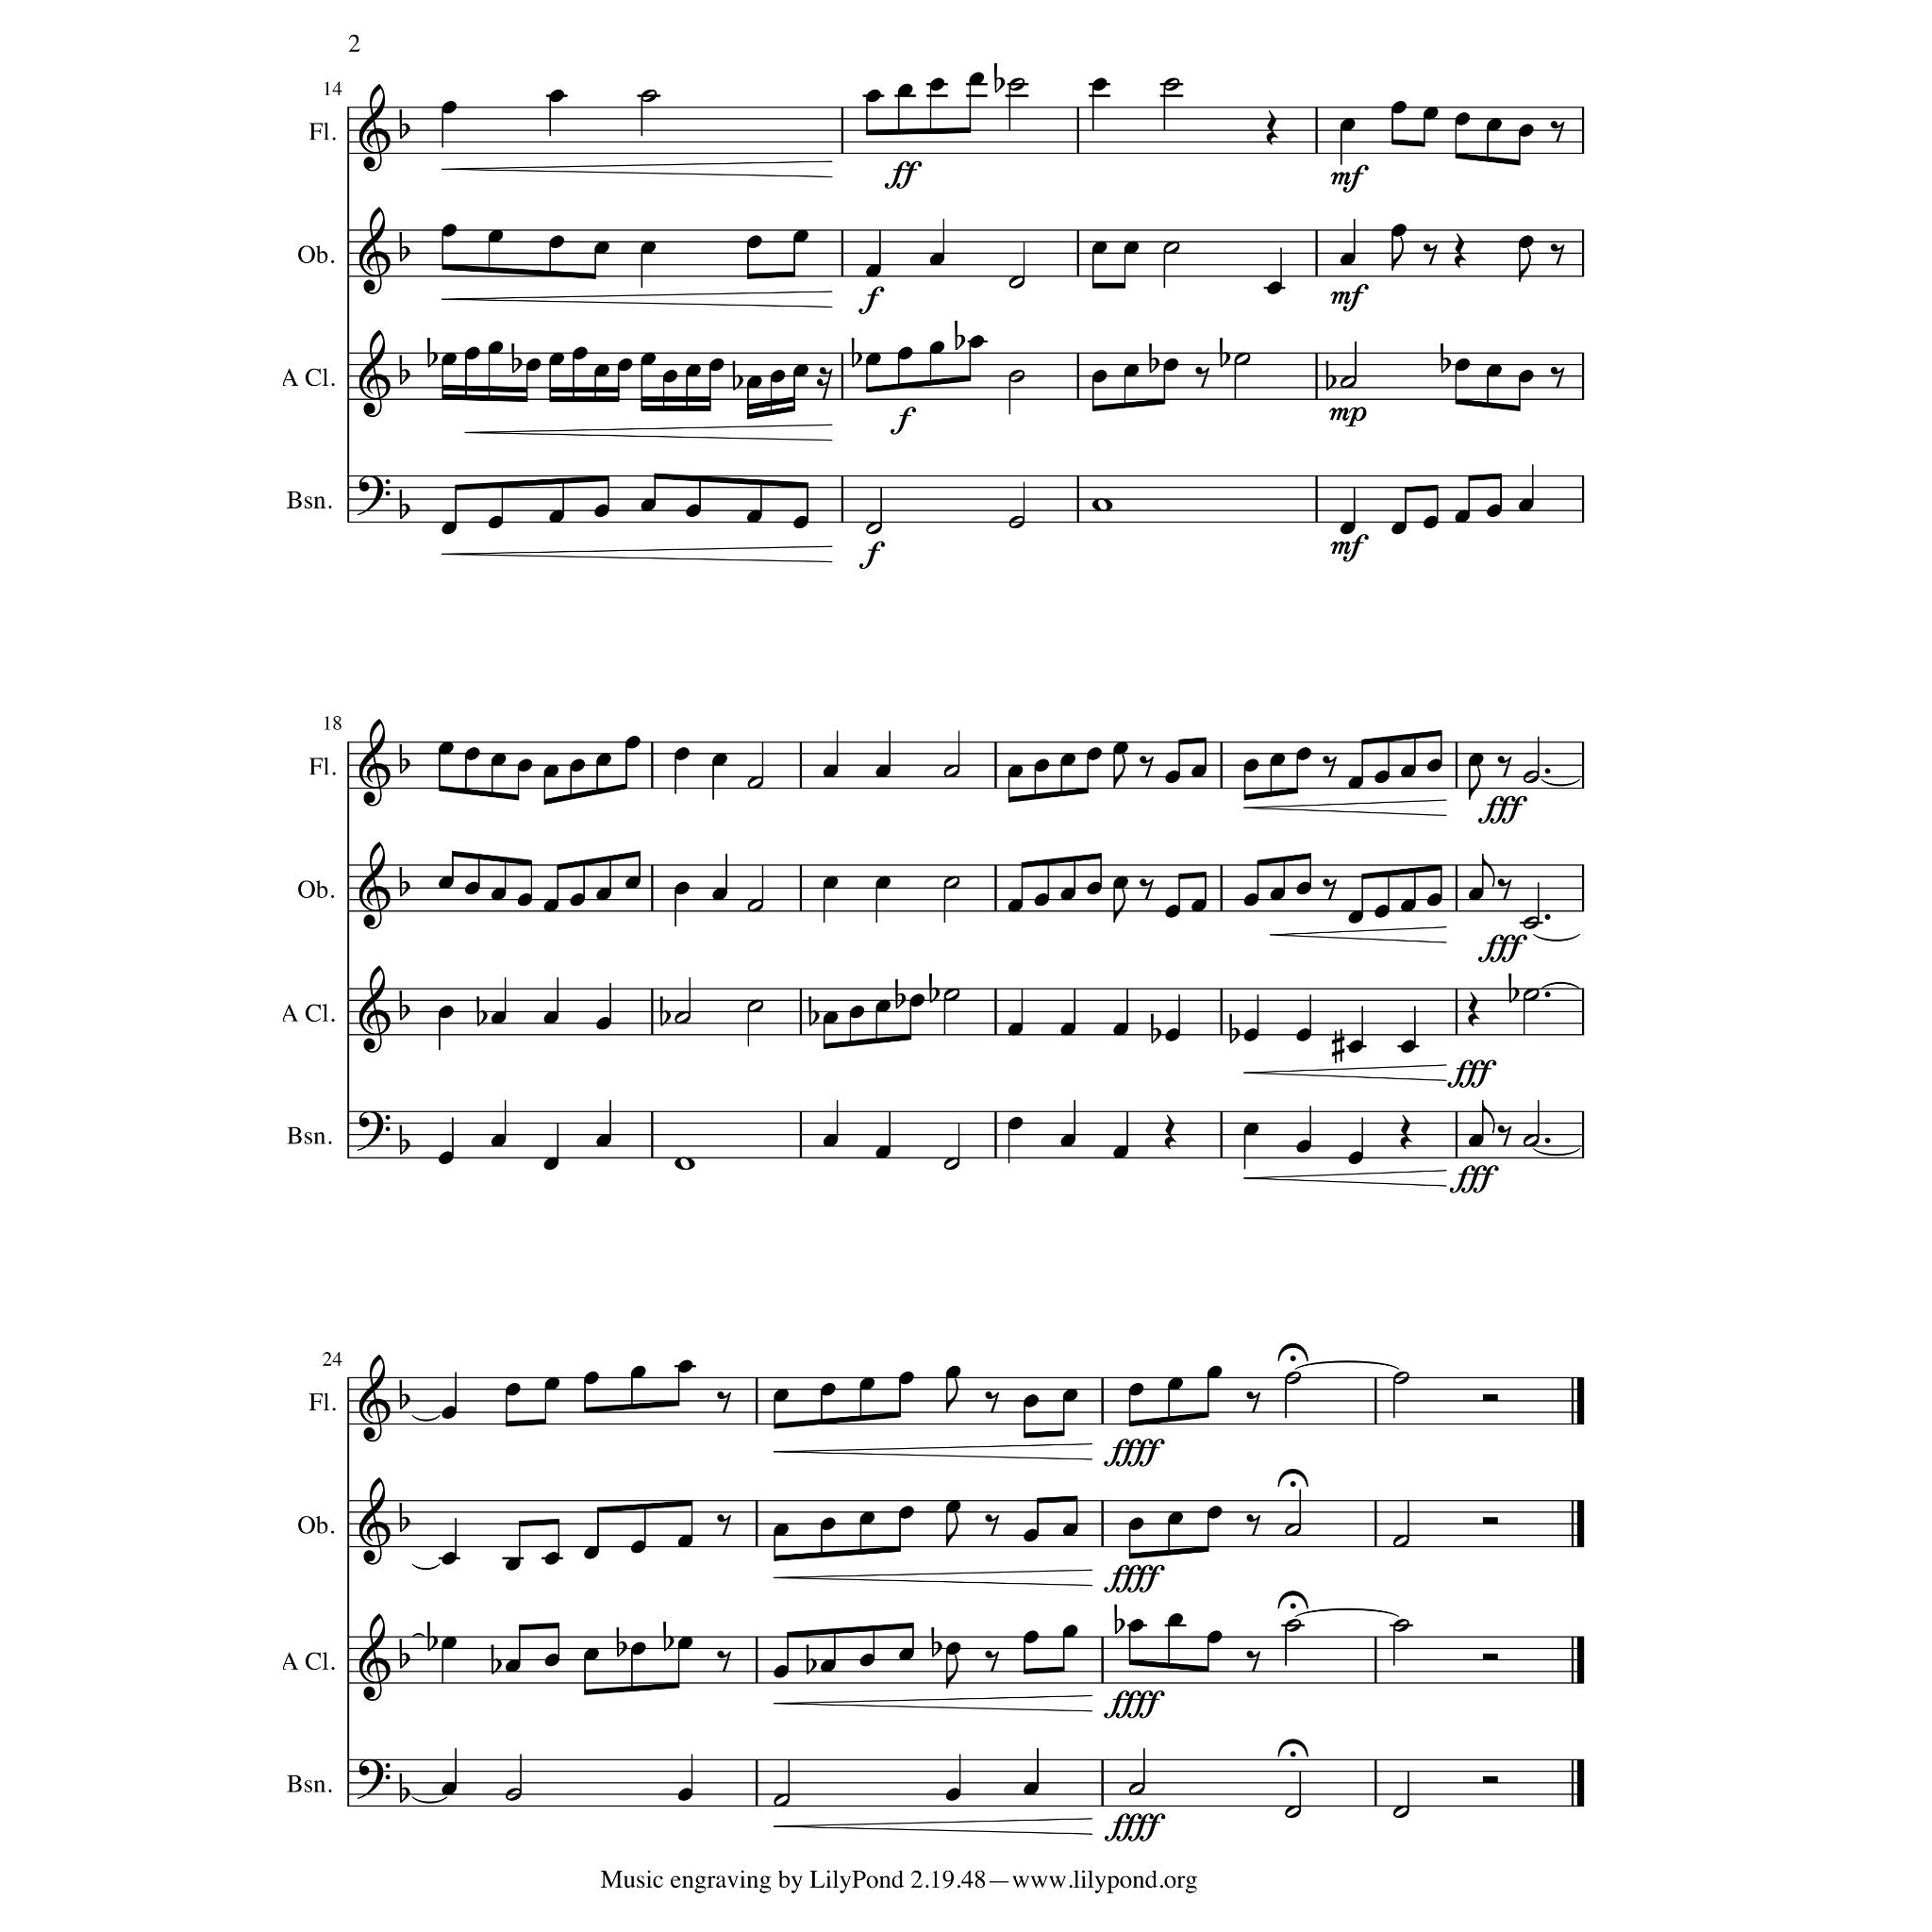fClef: (357, 1758, 391, 1800), (357, 475, 391, 515), (357, 1111, 391, 1151)
flag8thDown: (1113, 755, 1126, 789), (1113, 889, 1126, 923), (945, 1655, 958, 1689), (945, 1378, 958, 1412), (945, 1513, 958, 1547), (1519, 248, 1530, 282), (1392, 237, 1404, 271), (1470, 766, 1481, 800)
flag8thUp: (1482, 1101, 1495, 1135), (1482, 854, 1495, 888)
gClef: (358, 329, 391, 418), (358, 84, 391, 173), (358, 207, 391, 295), (358, 841, 391, 930), (358, 965, 391, 1054), (358, 718, 391, 807), (358, 1477, 391, 1566), (358, 1613, 391, 1702), (358, 1355, 391, 1441)
noteheadBlack: (1191, 898, 1207, 913), (1164, 770, 1181, 785), (1374, 770, 1391, 785), (1400, 898, 1417, 913), (819, 1658, 836, 1674), (1340, 521, 1355, 536), (1391, 100, 1406, 115), (1391, 521, 1406, 536), (441, 100, 457, 115), (441, 521, 457, 536), (543, 898, 558, 913), (1008, 898, 1023, 913), (583, 1545, 598, 1560), (677, 1534, 692, 1549), (506, 1658, 521, 1674), (677, 1787, 692, 1802), (945, 1787, 960, 1802), (1162, 358, 1179, 372), (1266, 282, 1283, 295), (1091, 370, 1108, 383), (1091, 78, 1108, 92), (1091, 241, 1108, 255), (1123, 241, 1140, 255), (1123, 364, 1140, 377), (1517, 370, 1534, 383), (1517, 499, 1534, 512), (1517, 236, 1534, 249), (1423, 107, 1440, 120), (1423, 516, 1440, 529), (1517, 125, 1534, 138), (572, 347, 589, 360), (640, 241, 657, 255), (640, 353, 657, 366), (640, 499, 657, 512), (928, 253, 945, 266), (928, 341, 945, 355), (896, 84, 913, 97), (896, 347, 913, 360), (928, 78, 945, 92), (745, 236, 762, 249), (745, 375, 762, 389), (745, 510, 762, 524), (968, 336, 985, 349), (685, 364, 702, 377), (685, 504, 702, 517), (968, 72, 985, 85), (708, 358, 724, 372), (1164, 905, 1181, 918), (1164, 1028, 1181, 1041), (1191, 765, 1207, 778), (1374, 905, 1391, 918), (1400, 765, 1417, 778), (1400, 1041, 1417, 1054), (1347, 776, 1364, 790), (1347, 910, 1364, 924), (1347, 1041, 1364, 1054), (1347, 1151, 1364, 1164), (674, 747, 691, 760), (674, 882, 691, 895), (711, 753, 728, 766), (711, 888, 728, 901), (1206, 1366, 1223, 1379), (1206, 1506, 1223, 1519), (1206, 1630, 1223, 1643), (858, 1377, 875, 1391), (858, 1511, 875, 1524), (858, 1654, 875, 1667), (819, 1517, 836, 1530), (819, 1383, 836, 1396), (1340, 119, 1355, 132), (1340, 253, 1355, 266), (1455, 112, 1470, 125), (1391, 225, 1406, 238), (1487, 119, 1502, 132), (1487, 364, 1502, 377), (1487, 504, 1502, 517), (1455, 358, 1470, 372), (1455, 510, 1470, 524), (594, 241, 609, 255), (594, 364, 609, 377), (594, 504, 609, 517), (549, 90, 564, 103), (549, 236, 564, 249), (549, 353, 564, 366), (549, 510, 564, 524), (662, 370, 677, 383), (617, 358, 632, 372), (441, 225, 457, 238), (441, 353, 457, 366), (488, 229, 503, 242), (488, 341, 503, 355), (488, 516, 503, 529), (525, 358, 541, 372), (464, 347, 479, 360), (866, 90, 881, 103), (866, 264, 881, 277), (866, 353, 881, 366), (792, 229, 808, 242), (792, 364, 808, 377), (792, 516, 808, 529), (770, 370, 785, 383), (1243, 893, 1258, 907), (1243, 759, 1258, 773), (1243, 1028, 1258, 1041), (1243, 1123, 1258, 1136), (1296, 882, 1311, 895), (1296, 1028, 1311, 1041), (1296, 1140, 1311, 1153), (1296, 747, 1311, 760), (1270, 753, 1285, 766), (1270, 888, 1285, 901), (1087, 747, 1102, 760), (1087, 882, 1102, 895), (1113, 741, 1128, 755), (1113, 876, 1128, 890), (1113, 1023, 1128, 1036), (1113, 1145, 1128, 1158), (1060, 753, 1075, 766), (1060, 888, 1075, 901), (1060, 1023, 1075, 1036), (1060, 1134, 1075, 1147), (1468, 753, 1483, 766), (1468, 888, 1483, 901), (1468, 1134, 1483, 1147), (1426, 759, 1441, 773), (1426, 893, 1441, 907), (570, 759, 585, 773), (570, 893, 585, 907), (596, 753, 611, 766), (596, 888, 611, 901), (596, 1017, 611, 1030), (596, 1134, 611, 1147), (543, 1158, 558, 1171), (543, 765, 558, 778), (543, 1011, 558, 1024), (625, 736, 640, 749), (625, 876, 640, 890), (438, 741, 453, 755), (438, 876, 453, 890), (438, 1006, 453, 1019), (438, 1151, 453, 1164), (491, 888, 506, 901), (491, 1011, 506, 1024), (491, 1134, 506, 1147), (491, 753, 506, 766), (517, 759, 532, 773), (517, 893, 532, 907), (464, 747, 479, 760), (464, 882, 479, 895), (909, 993, 924, 1007), (849, 1006, 864, 1019), (875, 765, 891, 778), (875, 1000, 891, 1013), (875, 1145, 891, 1158), (1034, 759, 1049, 773), (1034, 893, 1049, 907), (1008, 765, 1023, 778), (1008, 1023, 1023, 1036), (1008, 1117, 1023, 1130), (875, 876, 891, 890), (823, 765, 838, 778), (823, 876, 838, 890), (823, 1011, 838, 1024), (823, 1134, 838, 1147), (1168, 1377, 1183, 1391), (1168, 1511, 1183, 1524), (1168, 1613, 1183, 1626), (1024, 1529, 1039, 1542), (1024, 1394, 1039, 1407), (1024, 1630, 1039, 1643), (1024, 1782, 1039, 1795), (1128, 1383, 1143, 1396), (1128, 1517, 1143, 1530), (1128, 1619, 1143, 1632), (1062, 1389, 1077, 1402), (1062, 1524, 1077, 1537), (1062, 1624, 1077, 1638), (583, 1372, 598, 1385), (583, 1648, 598, 1661), (544, 1377, 559, 1391), (544, 1552, 559, 1565), (544, 1654, 559, 1667), (677, 1359, 692, 1373), (677, 1636, 692, 1649), (630, 1366, 645, 1379), (630, 1541, 645, 1554), (630, 1641, 645, 1655), (506, 1383, 521, 1396), (506, 1557, 521, 1571), (441, 1407, 457, 1420), (441, 1552, 457, 1565), (441, 1636, 457, 1649), (441, 1782, 457, 1795), (945, 1366, 960, 1379), (945, 1500, 960, 1513), (945, 1641, 960, 1655), (899, 1648, 914, 1661), (899, 1372, 914, 1385), (899, 1506, 914, 1519), (774, 1524, 789, 1537), (774, 1665, 789, 1678), (774, 1389, 789, 1402)
noteheadHalf: (747, 898, 764, 913), (505, 1787, 522, 1802), (1234, 353, 1251, 366), (1163, 241, 1180, 255), (1340, 375, 1357, 389), (1008, 516, 1024, 529), (1008, 78, 1024, 92), (1008, 276, 1024, 290), (1008, 370, 1024, 383), (1163, 78, 1180, 92), (640, 90, 657, 103), (865, 522, 882, 535), (1523, 771, 1540, 784), (1523, 917, 1540, 930), (1523, 989, 1540, 1002), (1523, 1134, 1540, 1147), (674, 1011, 691, 1024), (942, 989, 959, 1002), (942, 765, 959, 778), (942, 876, 959, 890), (942, 1158, 959, 1171), (747, 776, 764, 790), (747, 1000, 764, 1013), (1128, 1782, 1145, 1795), (1284, 1806, 1301, 1819), (1284, 1372, 1301, 1385), (1284, 1524, 1301, 1537), (1284, 1619, 1301, 1632), (1392, 1535, 1409, 1548), (1392, 1372, 1409, 1385), (1392, 1619, 1409, 1632), (1392, 1806, 1409, 1819), (773, 1793, 790, 1807)
noteheadWhole: (1091, 499, 1113, 512), (674, 1157, 696, 1170)
rest16th: (816, 368, 833, 400)
rest8th: (1194, 367, 1209, 390), (1550, 121, 1565, 143), (1550, 243, 1565, 266), (1550, 367, 1565, 390), (1423, 243, 1438, 266), (1322, 756, 1337, 778), (1322, 878, 1337, 901), (1139, 756, 1154, 778), (1139, 878, 1154, 901), (1497, 756, 1512, 778), (1497, 878, 1512, 901), (1497, 1124, 1512, 1147), (985, 1391, 1000, 1414), (985, 1514, 1000, 1537), (985, 1650, 1000, 1673), (1246, 1650, 1261, 1673), (1246, 1391, 1261, 1414), (1246, 1514, 1261, 1537), (716, 1391, 731, 1414), (716, 1514, 731, 1537), (716, 1650, 731, 1673)
restHalf: (1483, 1394, 1498, 1402), (1483, 1517, 1498, 1524), (1483, 1653, 1498, 1660), (1483, 1775, 1498, 1783)
restQuarter: (1265, 110, 1278, 146), (1164, 1114, 1177, 1150), (1455, 233, 1466, 269), (1400, 1114, 1411, 1150), (1468, 991, 1479, 1027)
